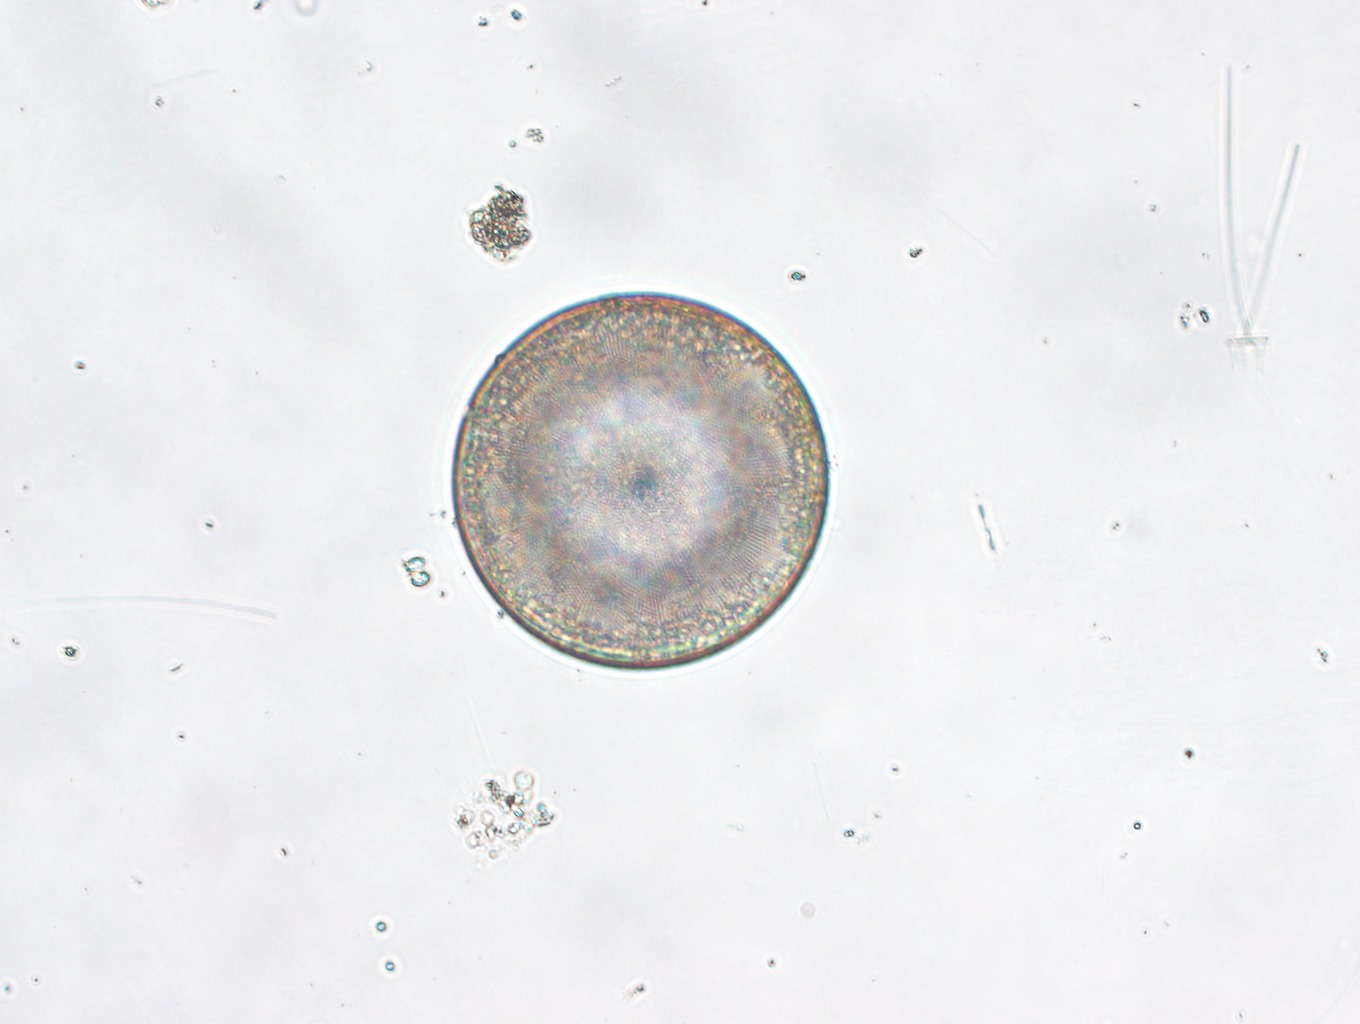coscinodiscus: (450, 291, 831, 673)
